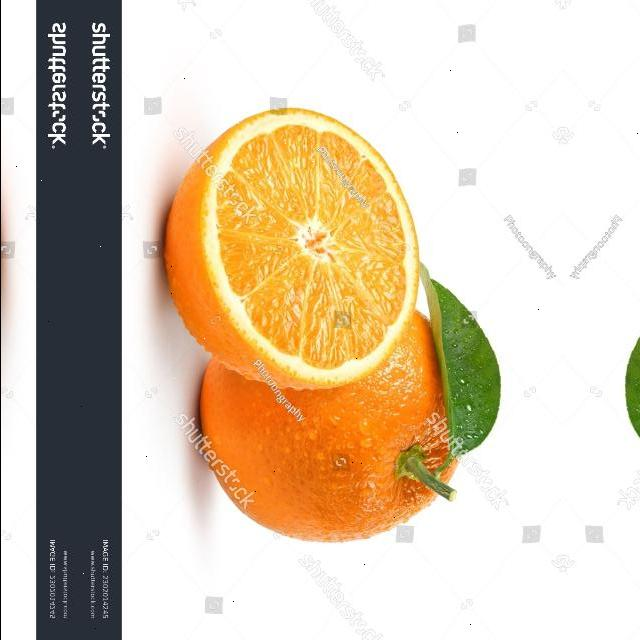Orange: (162, 106, 421, 391), (198, 308, 460, 542)
